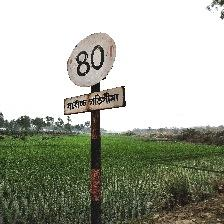Speed-limit: (64, 31, 124, 116)
